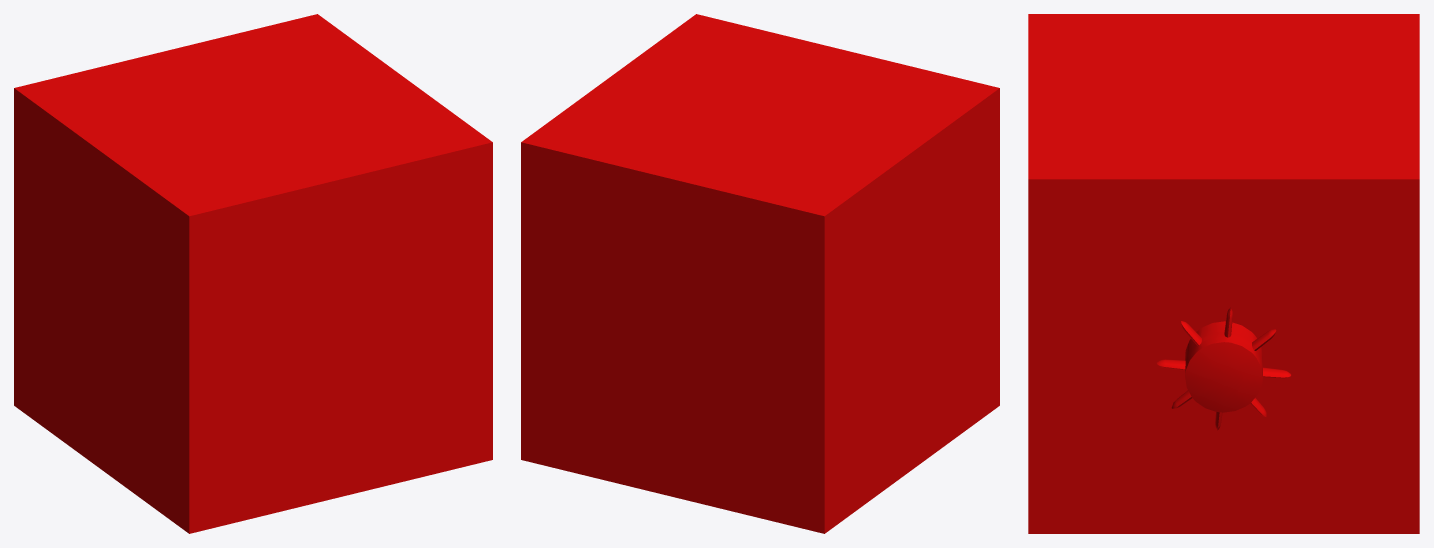
The model's file is safe.fbx.
3 views of the same model, side by side, from view 1: azimuth 30°, elevation 25°; view 2: azimuth 150°, elevation 25°; view 3: azimuth 270°, elevation 25° (orthographic). The views are drawn at different scales.
Parts seen in each view (by area): view 1: safe_low.001; view 2: safe_low.001; view 3: safe_low.001, safe door_low.001, safe handle_low.001.
Part boxes in pixels (bbox=[...]): safe_low.001: bbox=[14, 14, 492, 533]; safe_low.001: bbox=[521, 14, 999, 533]; safe_low.001: bbox=[1028, 14, 1419, 533]; safe door_low.001: bbox=[1067, 214, 1380, 498]; safe handle_low.001: bbox=[1157, 307, 1290, 430].
Bounding box in the file's own units: 113 × 100 × 100.
